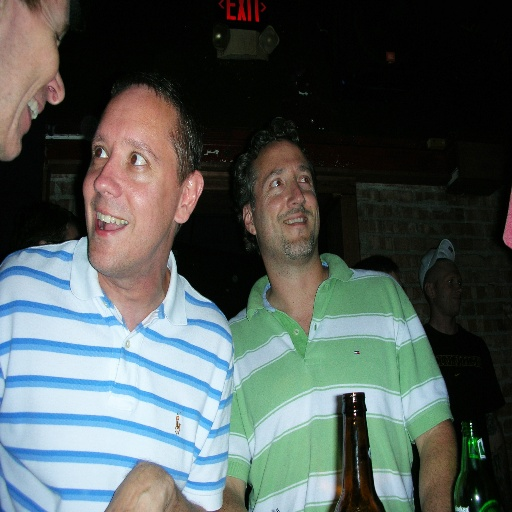hand: (103, 461, 175, 511)
